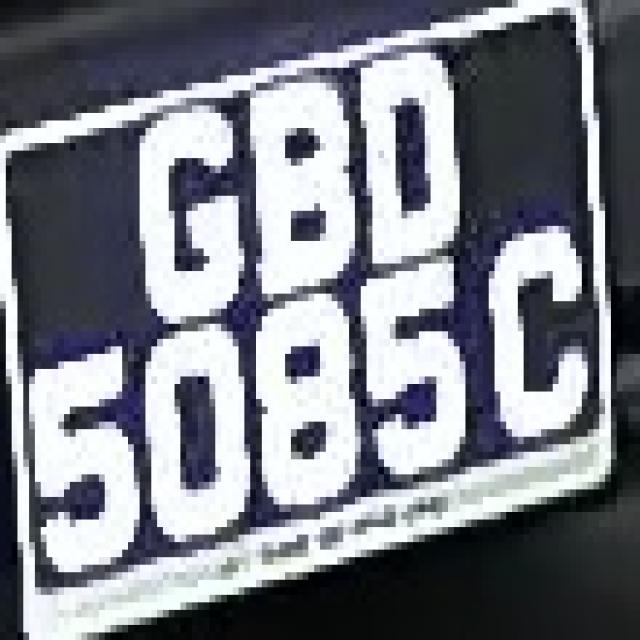0: (128, 301, 268, 580)
5: (355, 248, 489, 504), (29, 332, 151, 588)
8: (244, 294, 361, 534)
B: (227, 60, 361, 309)
C: (471, 181, 605, 459)
D: (344, 15, 472, 286)
G: (122, 83, 239, 324)
